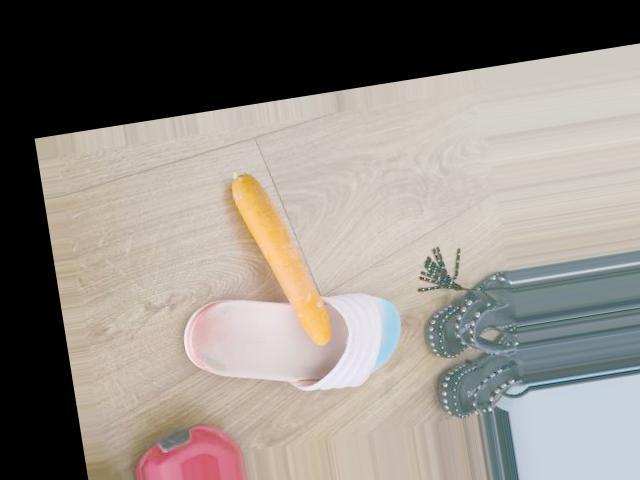carrot: (227, 165, 333, 358)
